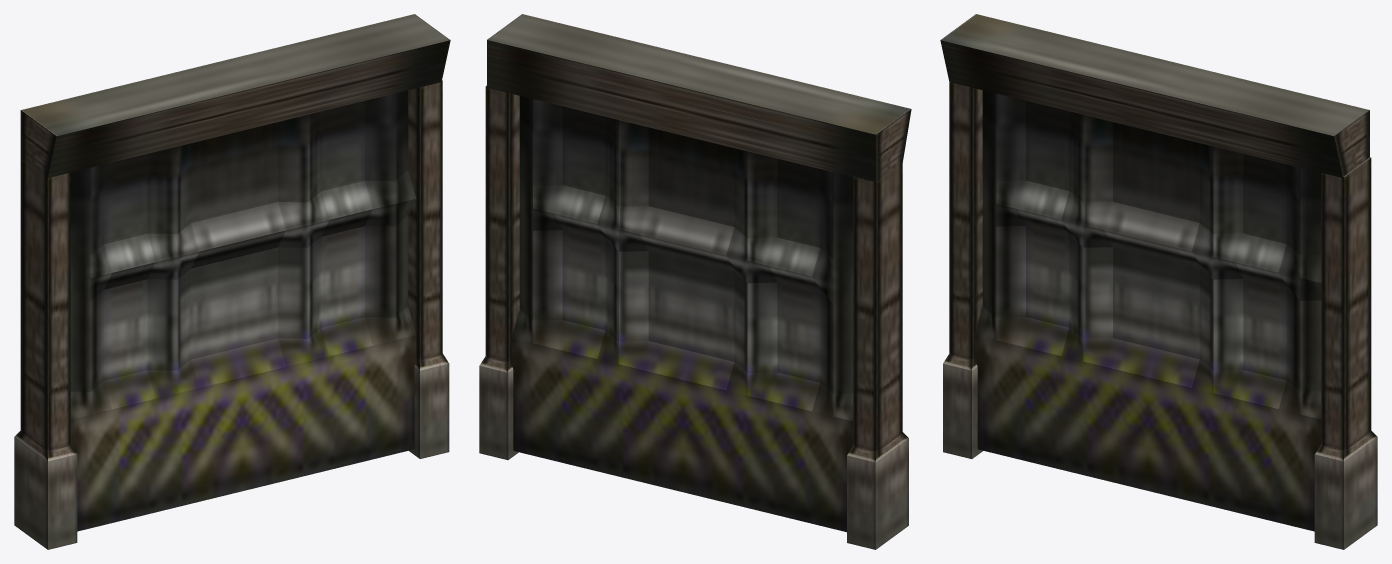
The model's file is industrial_door.fbx.
3 renders of one model, left to right at view 1: azimuth 30°, elevation 25°; view 2: azimuth 150°, elevation 25°; view 3: azimuth 330°, elevation 25°, orthographic.
Parts seen in each view (by area): view 1: Cube.003; view 2: Cube.003; view 3: Cube.003.
Part boxes in pixels (<box>): Cube.003: <box>14,14,450,549</box>; Cube.003: <box>479,14,911,549</box>; Cube.003: <box>940,14,1377,549</box>.
Bounding box in the file's own units: 692 × 688 × 117.
3 materials, 3 textured.
